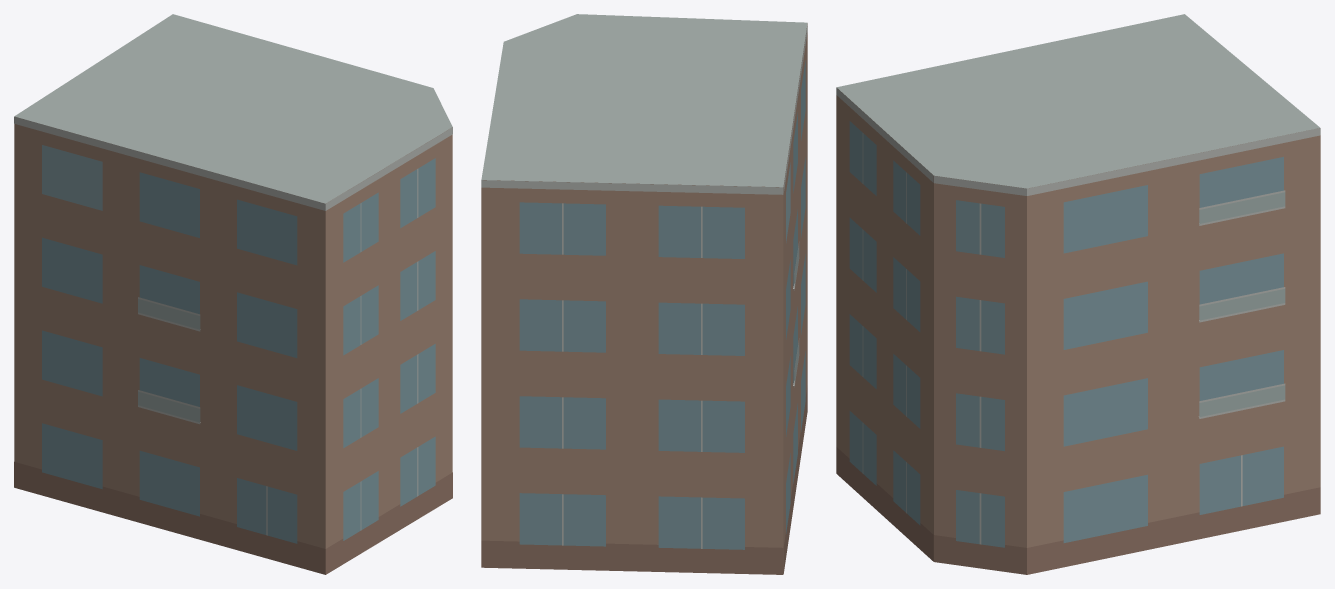
File: survey-upis-32641453.glb
3 renders of one model, left to right at view 1: azimuth 30°, elevation 25°; view 2: azimuth 150°, elevation 25°; view 3: azimuth 270°, elevation 25°, orthographic. The views are drawn at different scales.
Visible parts, largest first — view 1: survey-upis-32641453.tmp; view 2: survey-upis-32641453.tmp; view 3: survey-upis-32641453.tmp.
Boxes of the visible parts, x1,y1,x2,y2 form: survey-upis-32641453.tmp: (14,14,452,574); survey-upis-32641453.tmp: (481,14,807,574); survey-upis-32641453.tmp: (836,14,1320,574).
Size of the model in its own units: 12.02 by 12.4 by 14.09.
